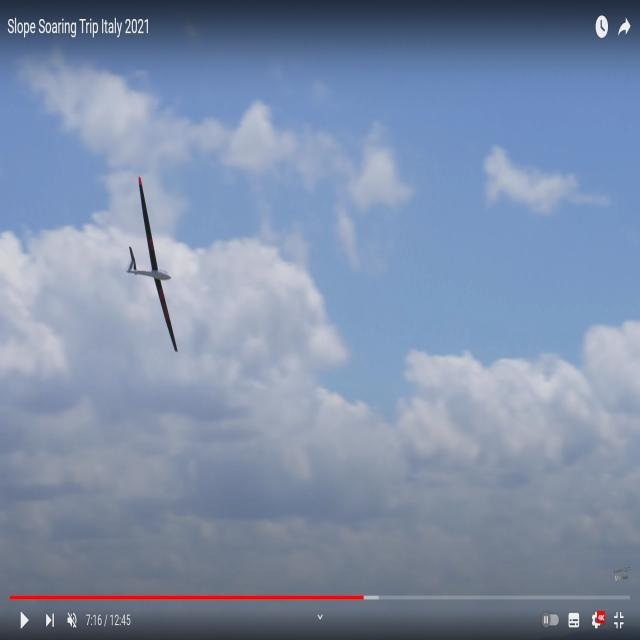iha: (126, 175, 177, 347)
